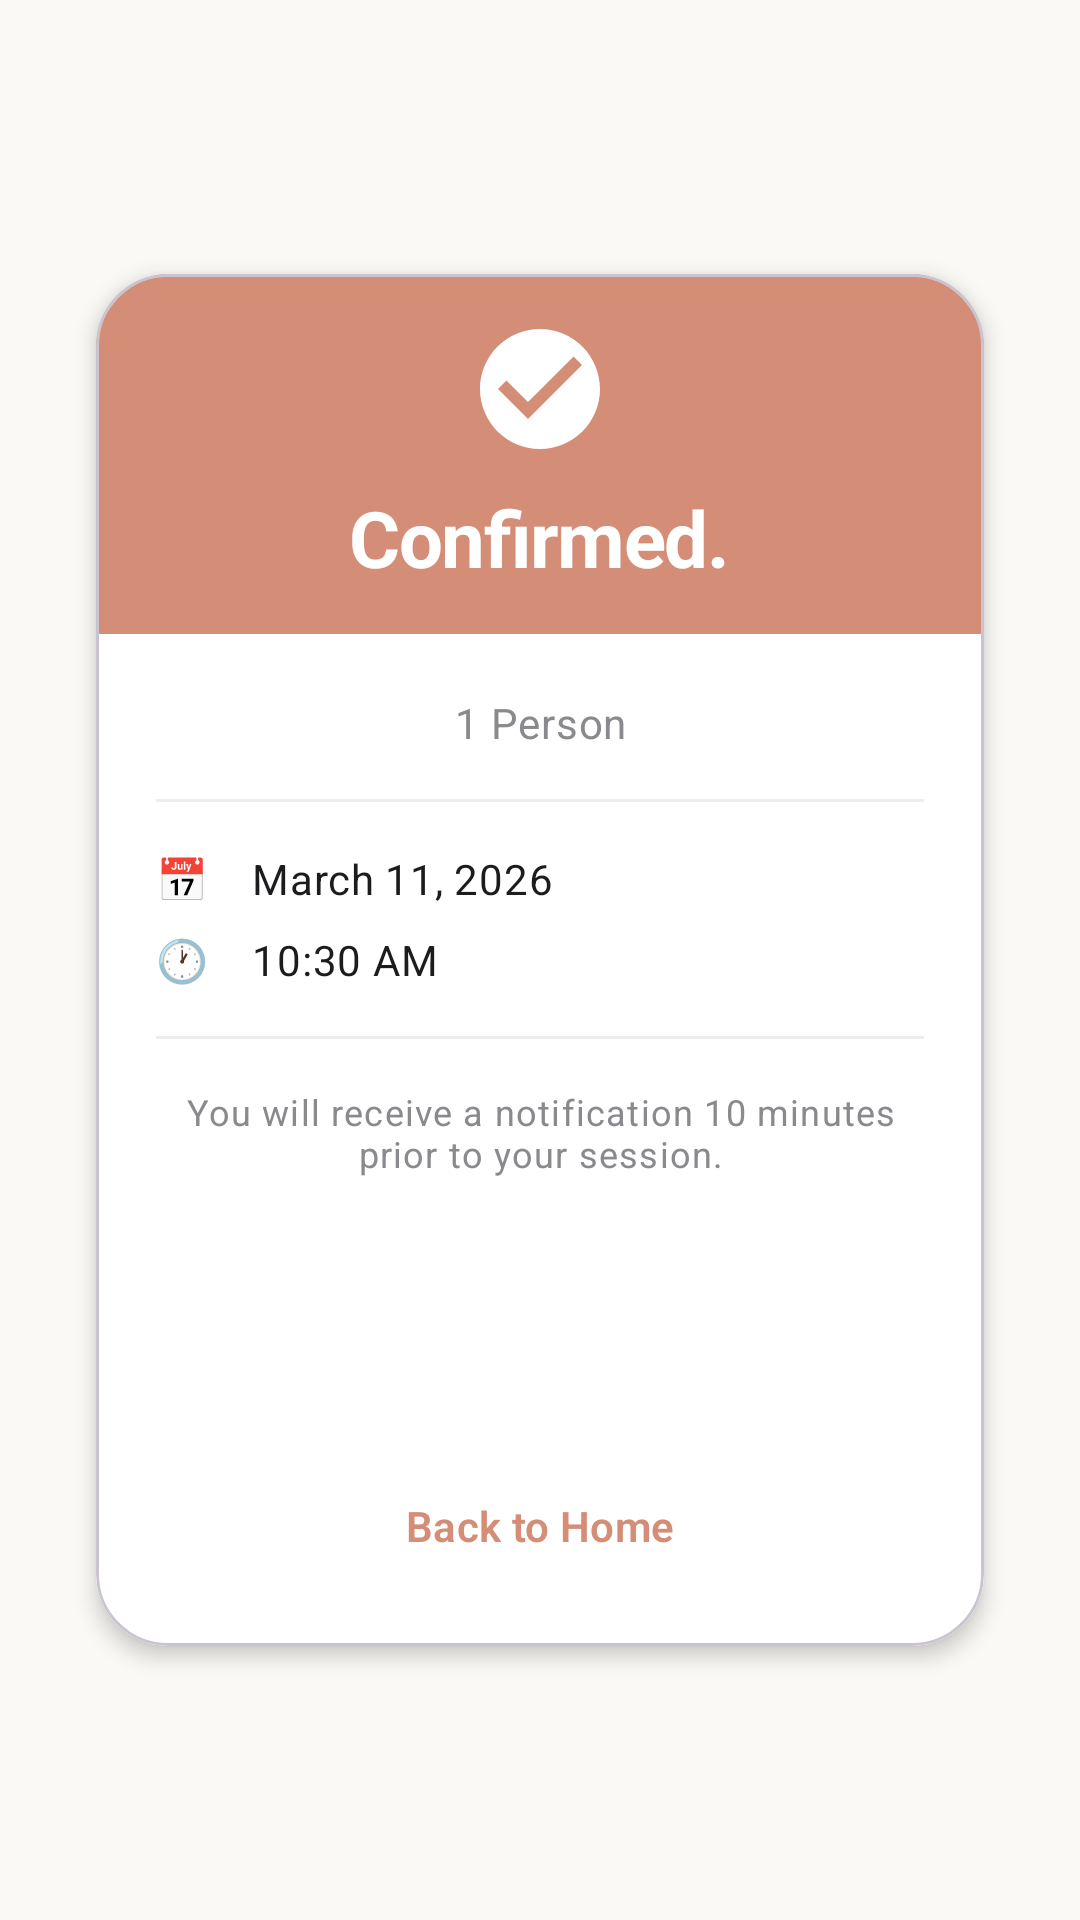

Locate icon controls on the screen. Image size 1080*1920, boxes as (x1, y1, x2, y2).
check circle: (480, 329, 600, 449)
